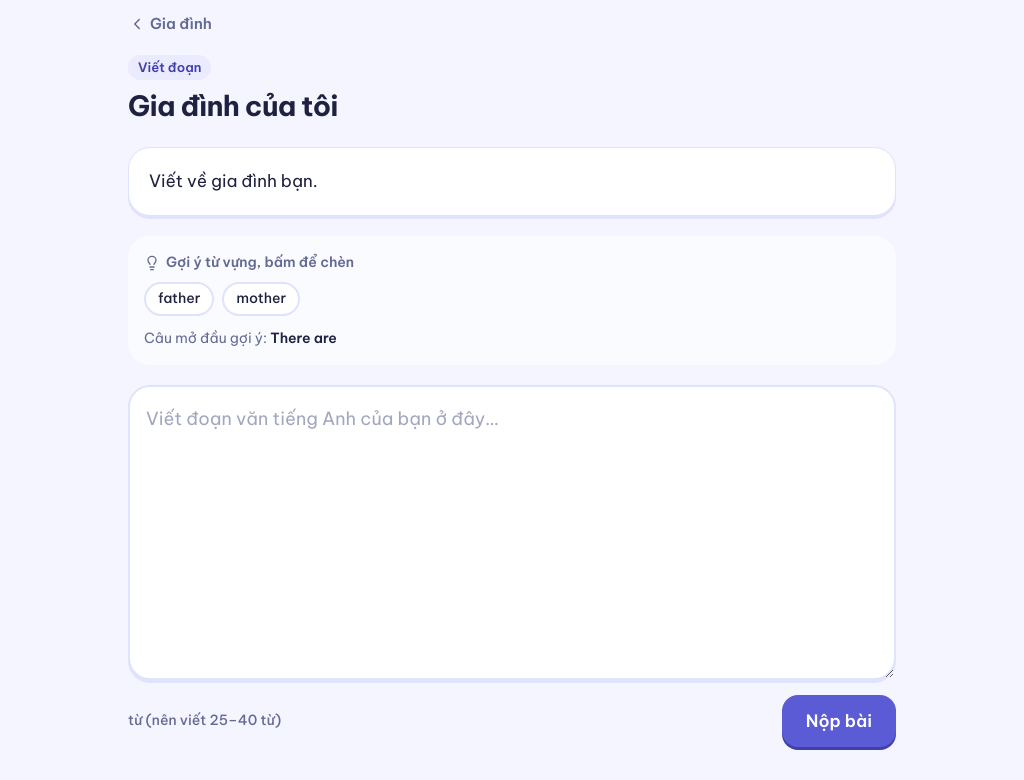
Scenario: keeps draft and shows retry on ai_error
Type "My family have four people." into the text box named "Bài viết của bạn" at (512, 533), box [128,385,896,680]
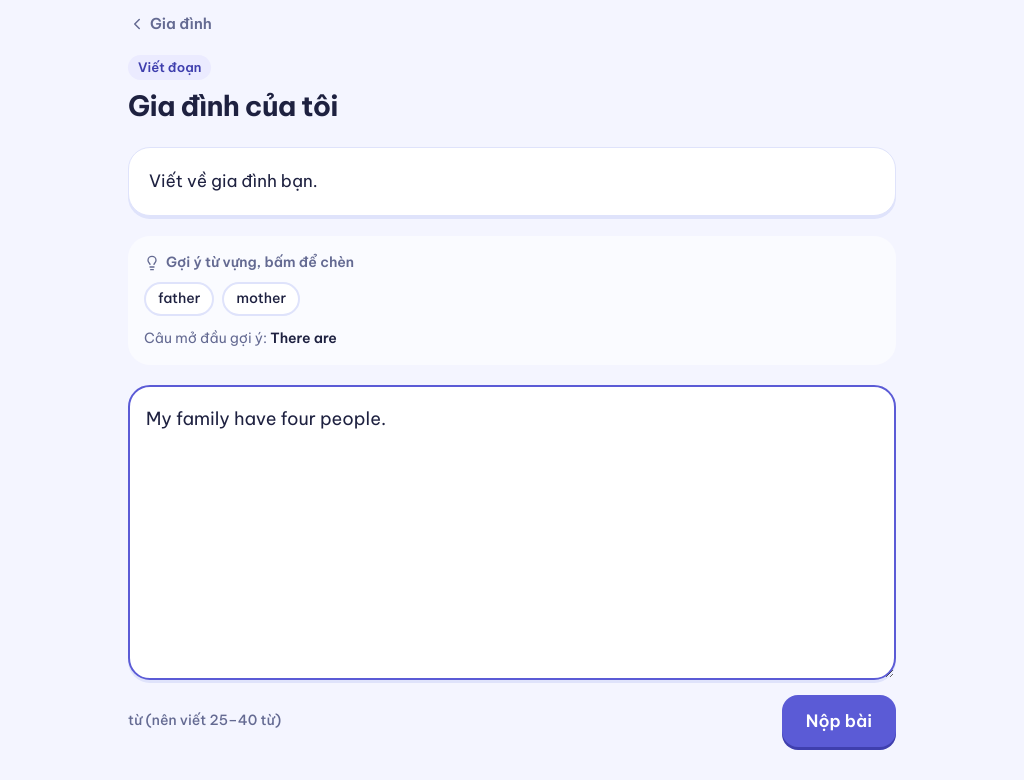
Click the button "Nộp bài" at (839, 721), box [782,695,896,747]
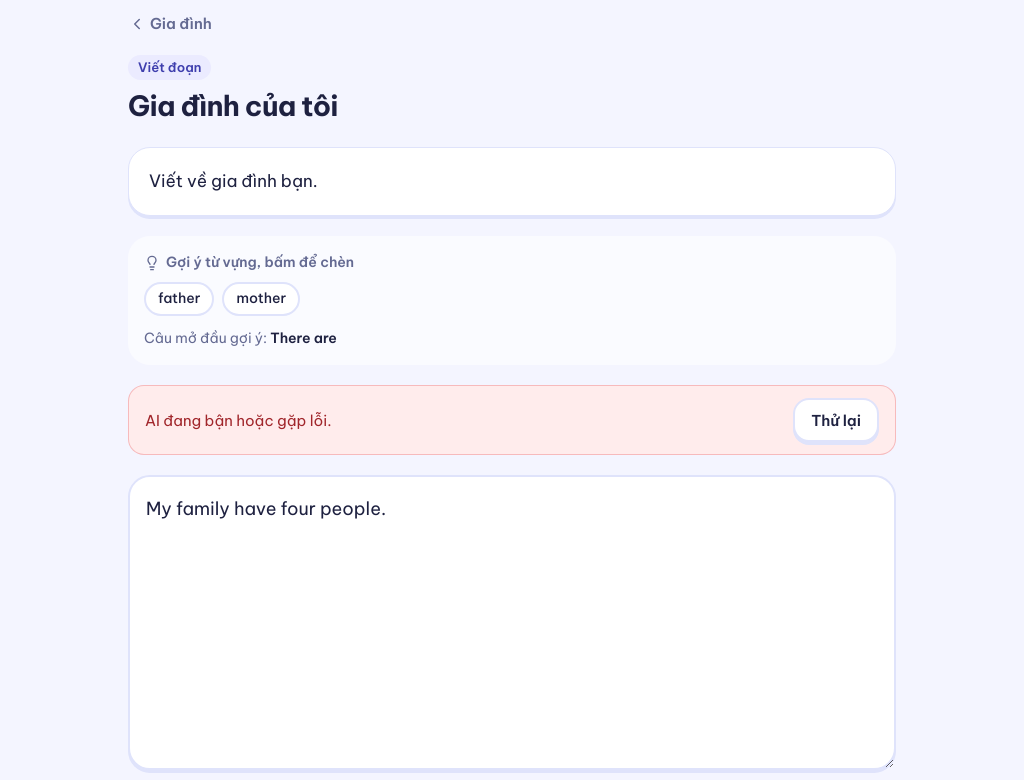
Now the text box named "Bài viết của bạn" holds "My family have four people.", box [128,475,896,770]
Now the text "AI đang bận hoặc gặp lỗi." is shown, box [145,411,332,430]
Now the button "Thử lại" is shown, box [793,398,879,442]
